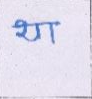aa_matra: (48, 25, 54, 43)
